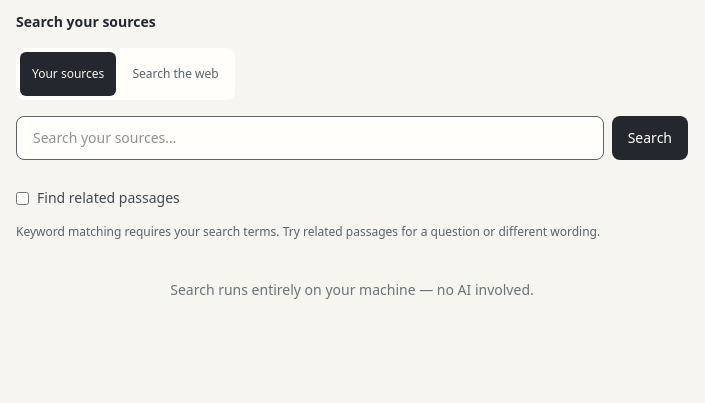
Test case: shows an honest passage count, never the relevance score as matches
Type "cells" into the search field with placeholder "Search your sources…" at (310, 138), box [16, 116, 604, 160]
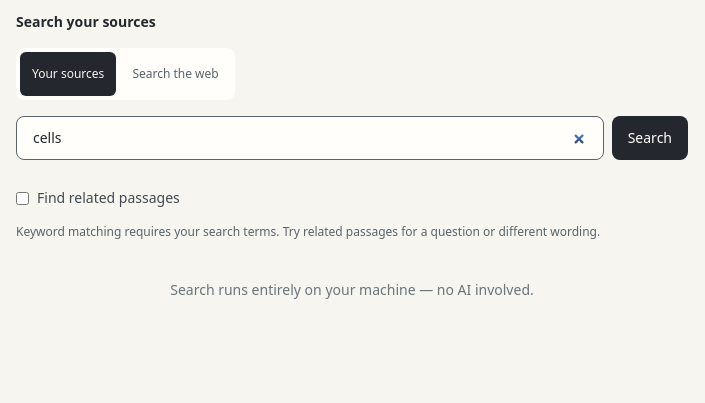
Click the button with aria-label "submit search" at (650, 138), box [612, 116, 688, 160]
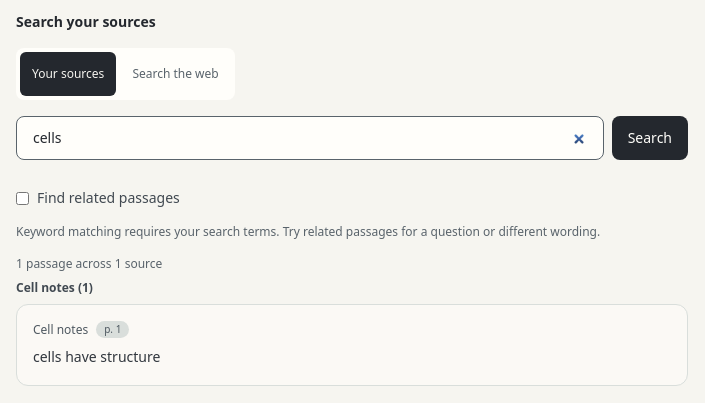
Expected: the text "cells have structure" is shown, [33, 347, 160, 366]
Expected: the text "1 passage across 1 source" is shown, [16, 255, 162, 272]
